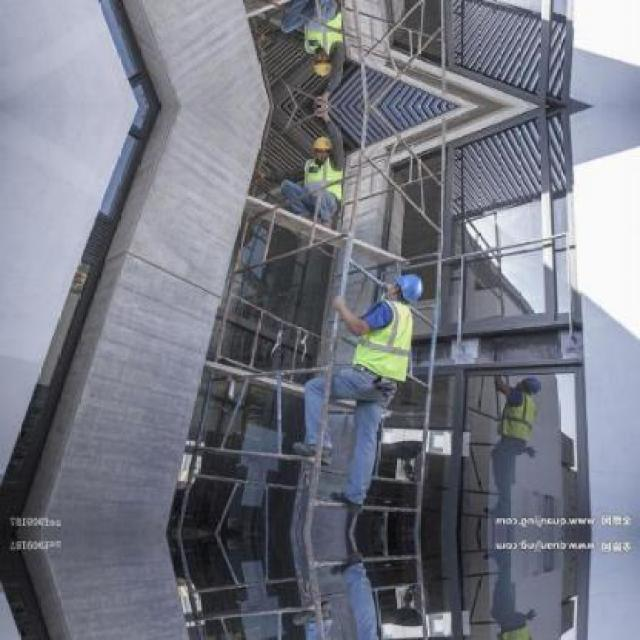Reflective-Jacket: (345, 299, 423, 390), (297, 2, 352, 77), (491, 390, 543, 450), (295, 157, 351, 205)
Safety-Helmet: (385, 268, 429, 307), (307, 132, 338, 156)
